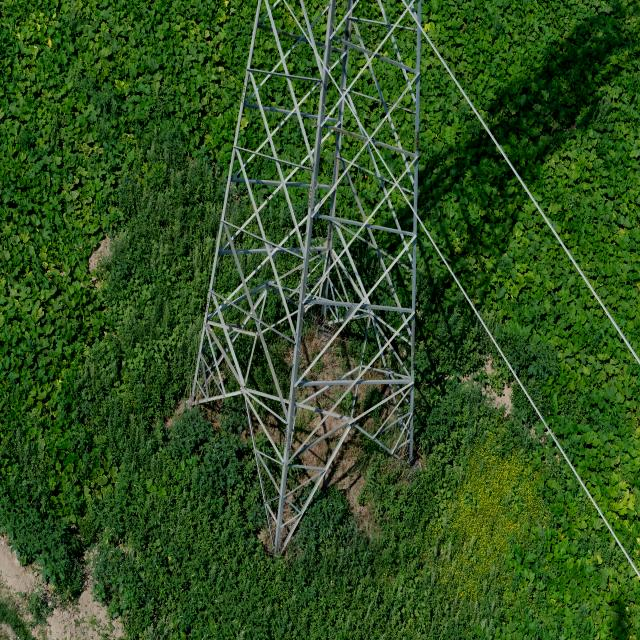voltage_line: (185, 0, 416, 554)
